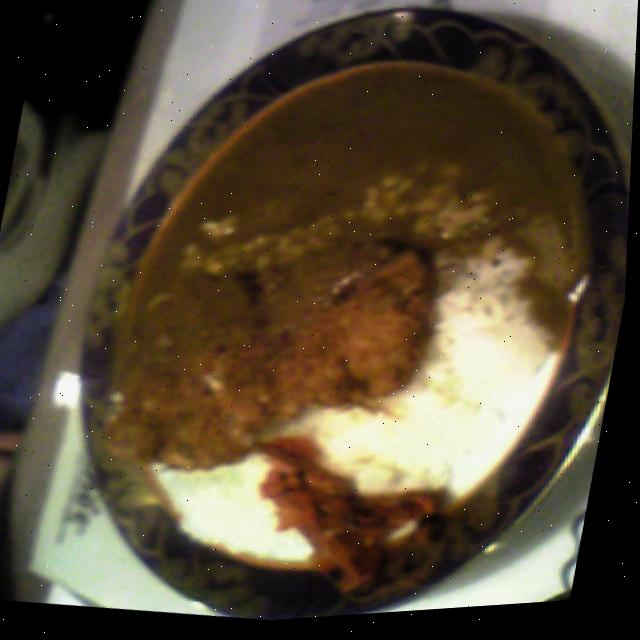猪肉菜式: (25, 0, 640, 638)
